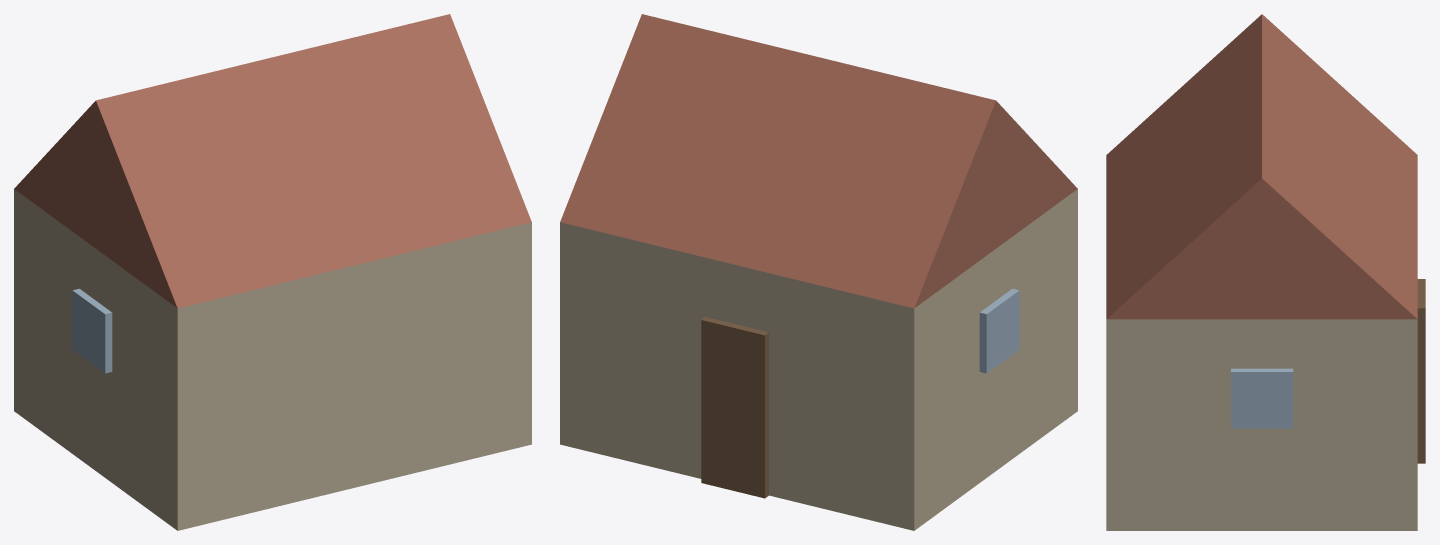
File: house.glb
3 views of the same model, side by side, from view 1: azimuth 30°, elevation 25°; view 2: azimuth 150°, elevation 25°; view 3: azimuth 270°, elevation 25° (orthographic). The views are drawn at different scales.
Visible parts, largest first — view 1: House; view 2: House; view 3: House.
Boxes of the visible parts, bbox=[...] form: House: bbox=[14, 14, 531, 530]; House: bbox=[560, 14, 1077, 530]; House: bbox=[1106, 14, 1425, 530].
Bounding box in the file's own units: 5.2 × 5 × 4.1.
